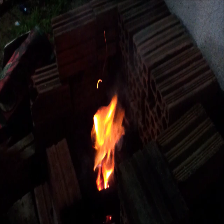fire_h: (92, 94, 125, 191)
fire_l: (96, 78, 102, 89), (105, 214, 111, 219)
